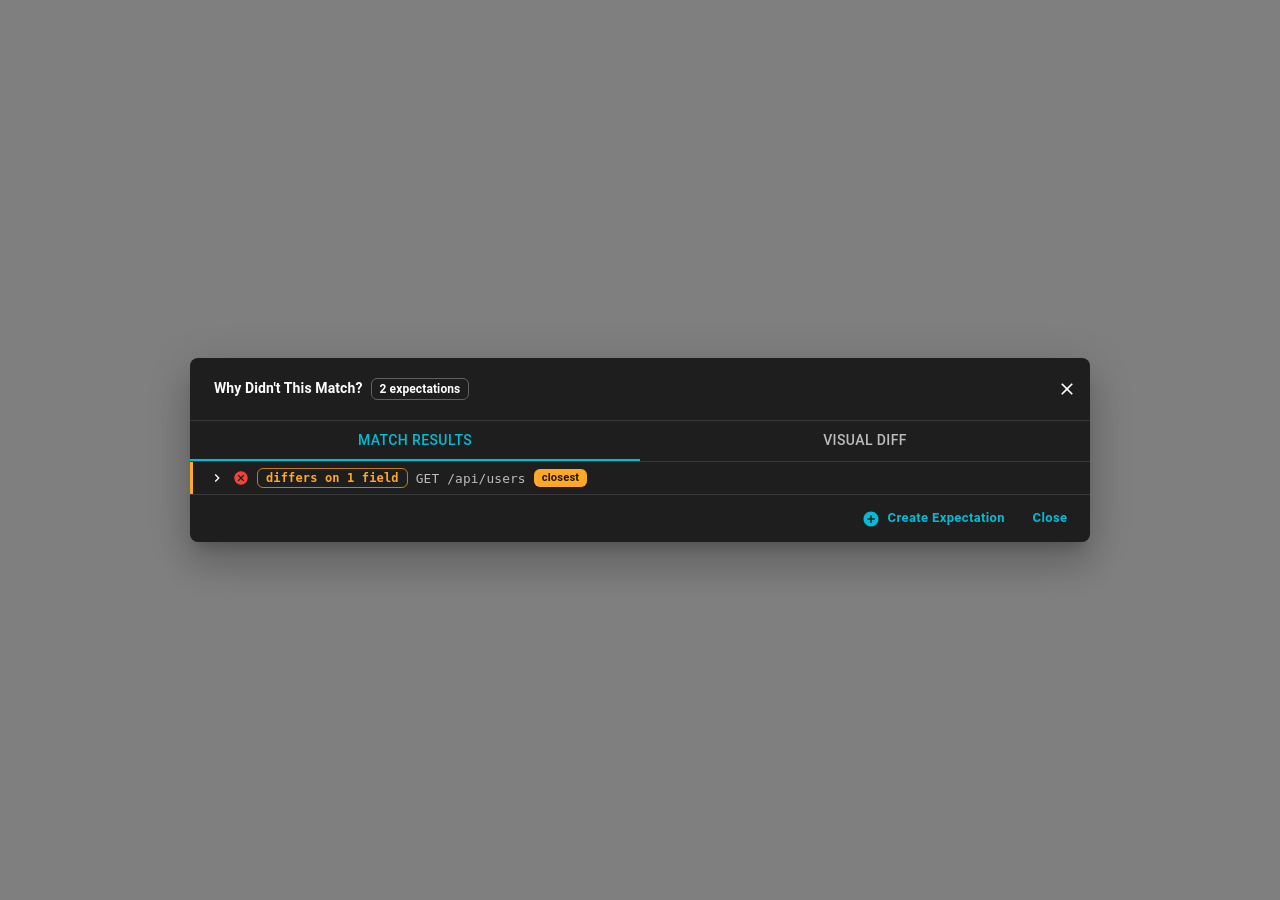
Create Expectation from Unmatched Request › opens CaptureAsMockDialog prefilled with the unmatched request on click
Step 1. Click the button "Create Expectation" → click(934, 518), box [859,503,1010,534]
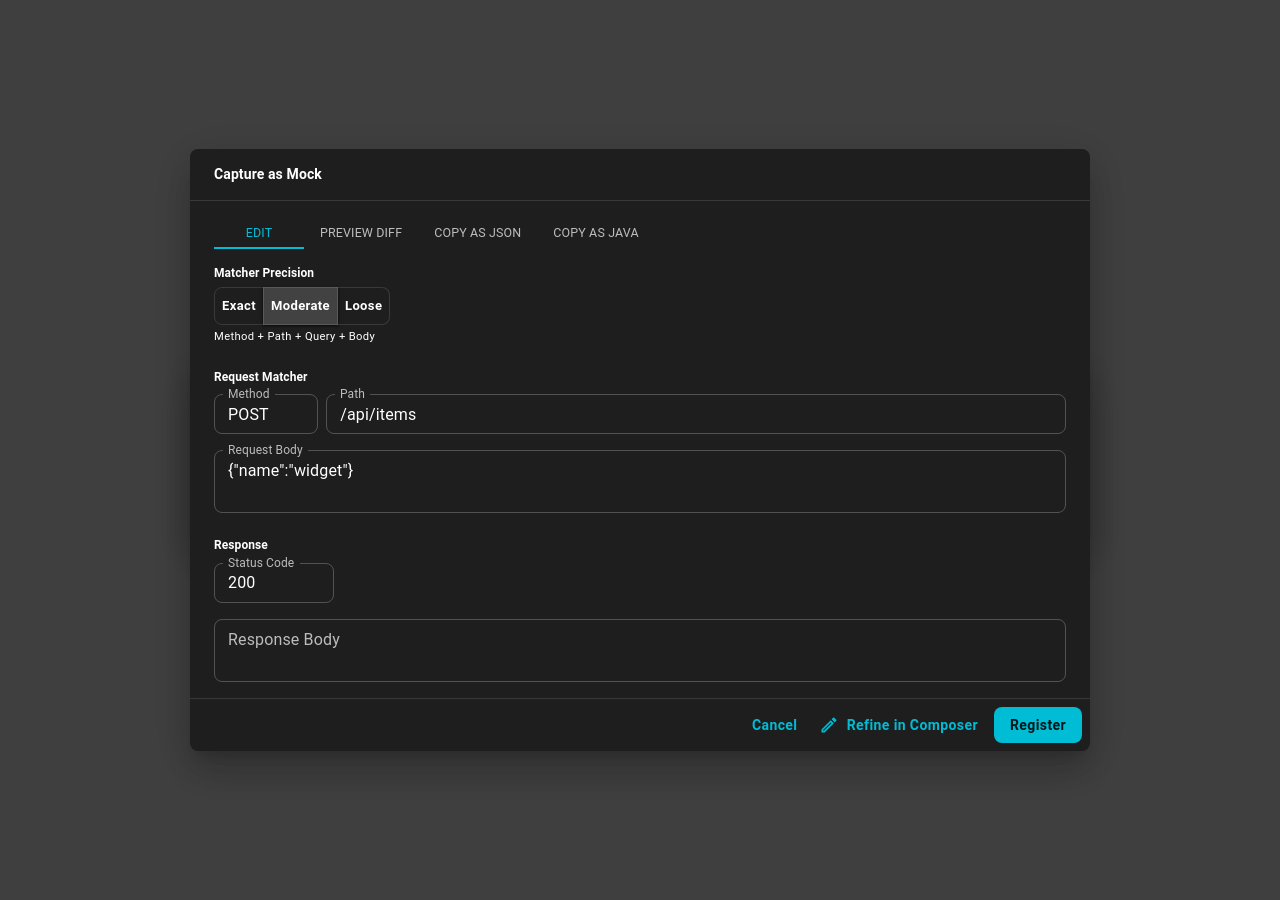
Expected: the heading "Capture as Mock" is shown, [214,166,322,182]
Expected: the field labelled "Method" holds "POST", [214,394,318,434]
Expected: the field labelled "Path" holds "/api/items", [326,394,1066,434]
